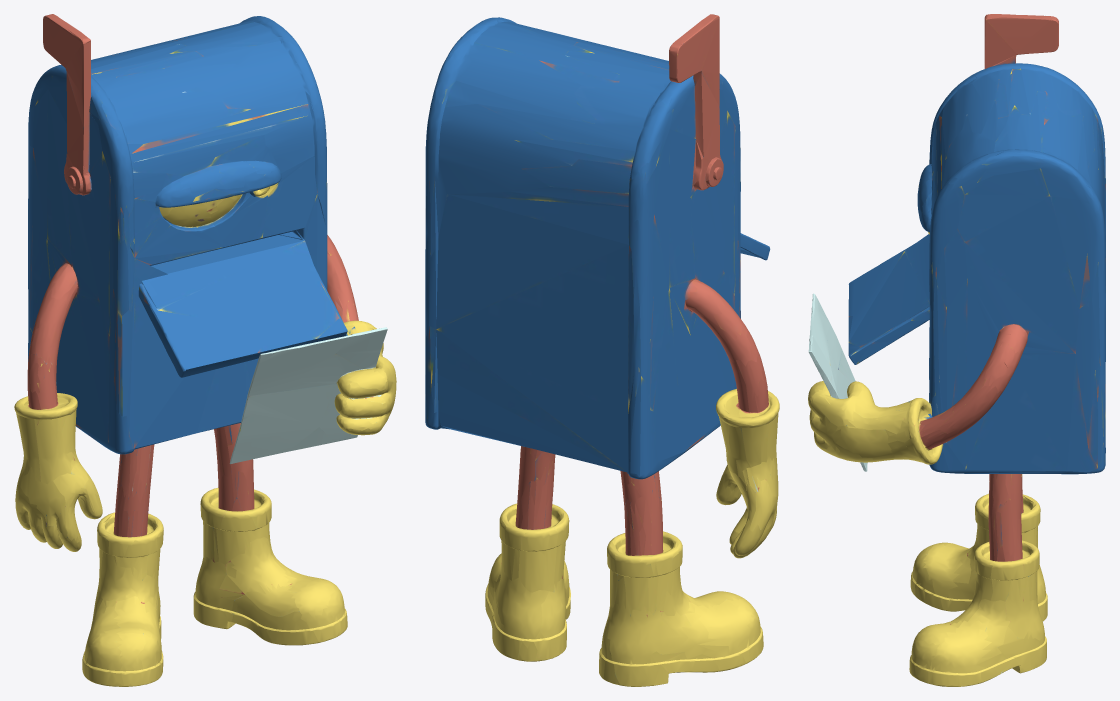
Rendered from mailbox.glb.
3 views of the same model, side by side, from view 1: azimuth 30°, elevation 25°; view 2: azimuth 150°, elevation 25°; view 3: azimuth 270°, elevation 25° (orthographic). The views are drawn at different scales.
Parts seen in each view (by area): view 1: Mesh_0; view 2: Mesh_0; view 3: Mesh_0.
Part boxes in pixels (box(x1,y1,x2,y2)): Mesh_0: box(14, 14, 396, 686); Mesh_0: box(425, 14, 779, 686); Mesh_0: box(808, 14, 1105, 686).
Bounding box in the file's own units: 1.02 × 1.9 × 0.896.
Materials: 1 (1 with a texture image).
